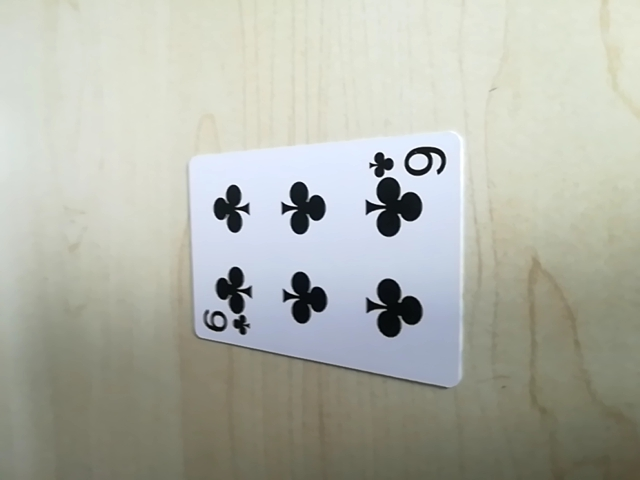mh 6: (368, 144, 450, 181), (198, 305, 250, 338)
